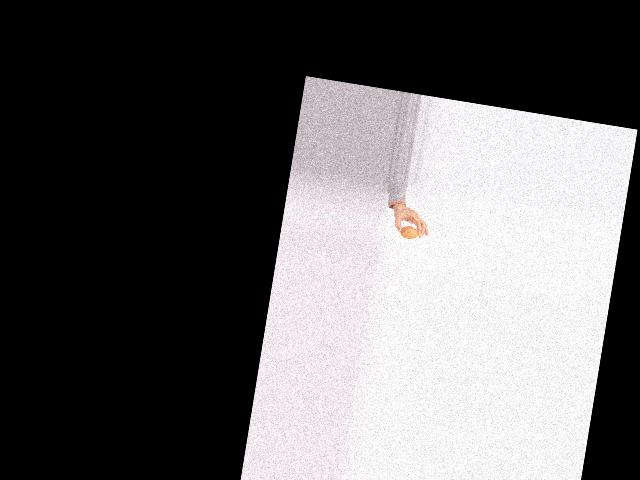egg: (399, 225, 419, 240)
